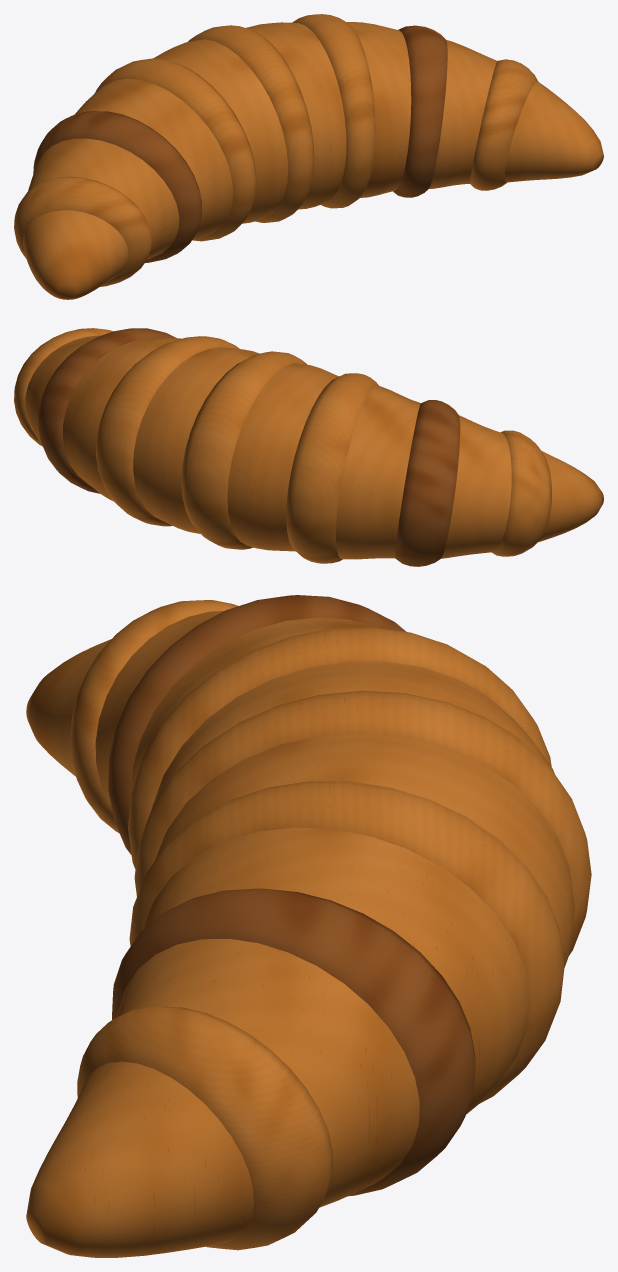
File: croissant.glb
3 views of the same model, one above another, from view 1: azimuth 30°, elevation 25°; view 2: azimuth 150°, elevation 25°; view 3: azimuth 270°, elevation 25° (orthographic). The views are drawn at different scales.
Visible parts, largest first — view 1: Continuous tapered crescent pastry, Finite rolled dough overlap 4, Finite rolled dough overlap 3, Finite rolled dough overlap 2, Finite rolled dough overlap 5, Finite rolled dough overlap 6, Finite rolled dough overlap 1, Finite rolled dough overlap 7; view 2: Continuous tapered crescent pastry, Finite rolled dough overlap 3, Finite rolled dough overlap 4, Finite rolled dough overlap 2, Finite rolled dough overlap 5, Finite rolled dough overlap 6, Finite rolled dough overlap 1, Finite rolled dough overlap 7; view 3: Continuous tapered crescent pastry, Finite rolled dough overlap 6, Finite rolled dough overlap 5, Finite rolled dough overlap 7, Finite rolled dough overlap 4, Finite rolled dough overlap 3, Finite rolled dough overlap 2, Finite rolled dough overlap 1.
Boxes of the visible parts, bbox=[...] form: Continuous tapered crescent pastry: bbox=[22, 22, 603, 299]; Finite rolled dough overlap 4: bbox=[188, 25, 314, 222]; Finite rolled dough overlap 3: bbox=[94, 58, 256, 241]; Finite rolled dough overlap 2: bbox=[33, 111, 201, 262]; Finite rolled dough overlap 5: bbox=[292, 14, 375, 208]; Finite rolled dough overlap 6: bbox=[393, 25, 447, 197]; Finite rolled dough overlap 1: bbox=[14, 176, 151, 286]; Finite rolled dough overlap 7: bbox=[470, 59, 538, 190]; Continuous tapered crescent pastry: bbox=[25, 335, 603, 559]; Finite rolled dough overlap 3: bbox=[286, 373, 378, 563]; Finite rolled dough overlap 4: bbox=[181, 351, 306, 549]; Finite rolled dough overlap 2: bbox=[395, 400, 460, 566]; Finite rolled dough overlap 5: bbox=[96, 336, 239, 526]; Finite rolled dough overlap 6: bbox=[38, 328, 176, 493]; Finite rolled dough overlap 1: bbox=[492, 430, 551, 556]; Finite rolled dough overlap 7: bbox=[14, 328, 112, 446]; Continuous tapered crescent pastry: bbox=[26, 611, 574, 1257]; Finite rolled dough overlap 6: bbox=[112, 888, 475, 1196]; Finite rolled dough overlap 5: bbox=[129, 781, 564, 1103]; Finite rolled dough overlap 7: bbox=[77, 1006, 333, 1250]; Finite rolled dough overlap 4: bbox=[134, 690, 591, 955]; Finite rolled dough overlap 3: bbox=[128, 627, 551, 869]; Finite rolled dough overlap 2: bbox=[108, 595, 406, 854]; Finite rolled dough overlap 1: bbox=[70, 600, 238, 833].
Size of the model in its own units: 0.1465 by 0.0449 by 0.0645.
2 materials, 2 textured.
